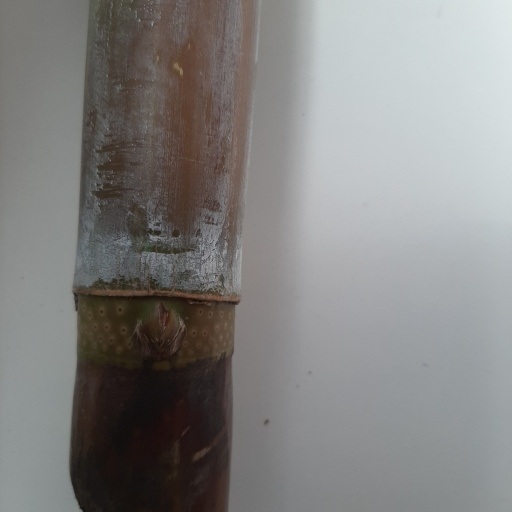Bud: (144, 304, 187, 359)
